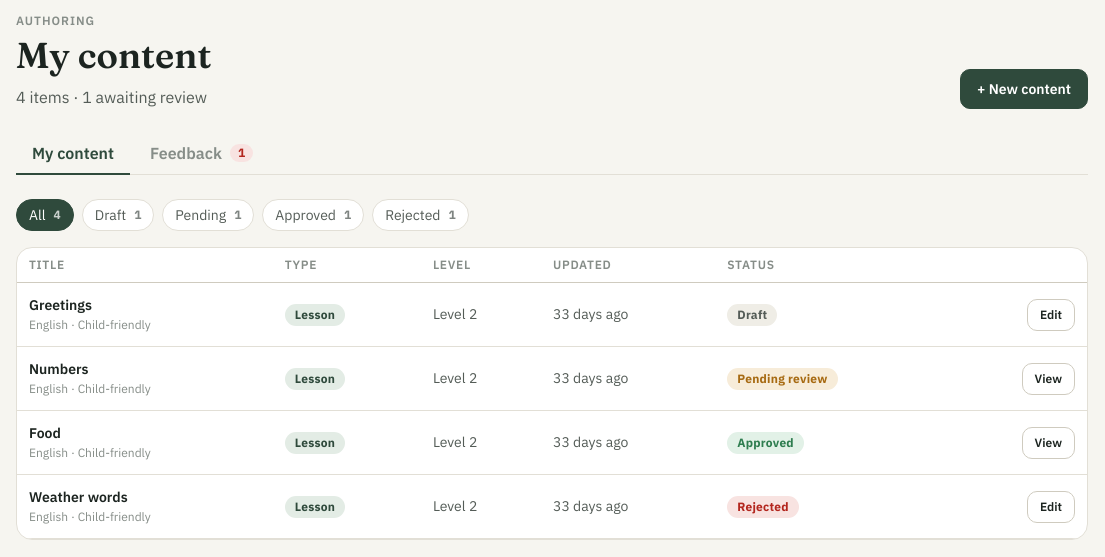
Test: AuthorDashboardScreen › switching to the Feedback tab shows every rejected item and hides the table
This screenshot has width=1105, height=557.
Click the tab with test id "tab-feedback": [202, 154] box [134,133,269,175]
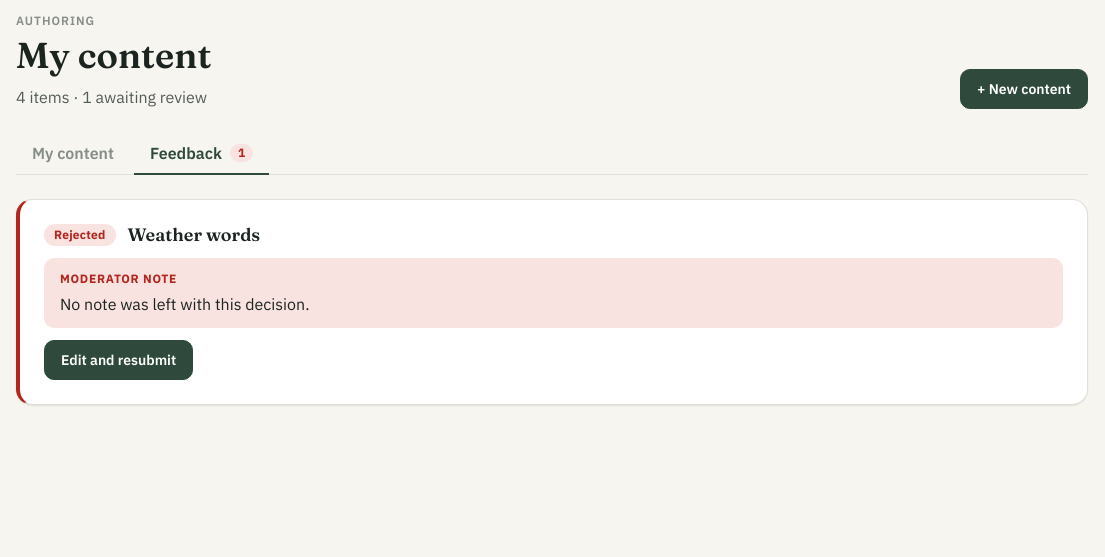
Expected: the number of elements with test id "rejected-notice" is 1, [16,199,1088,405]
